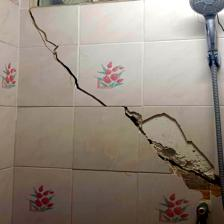High: (22, 3, 221, 201)
